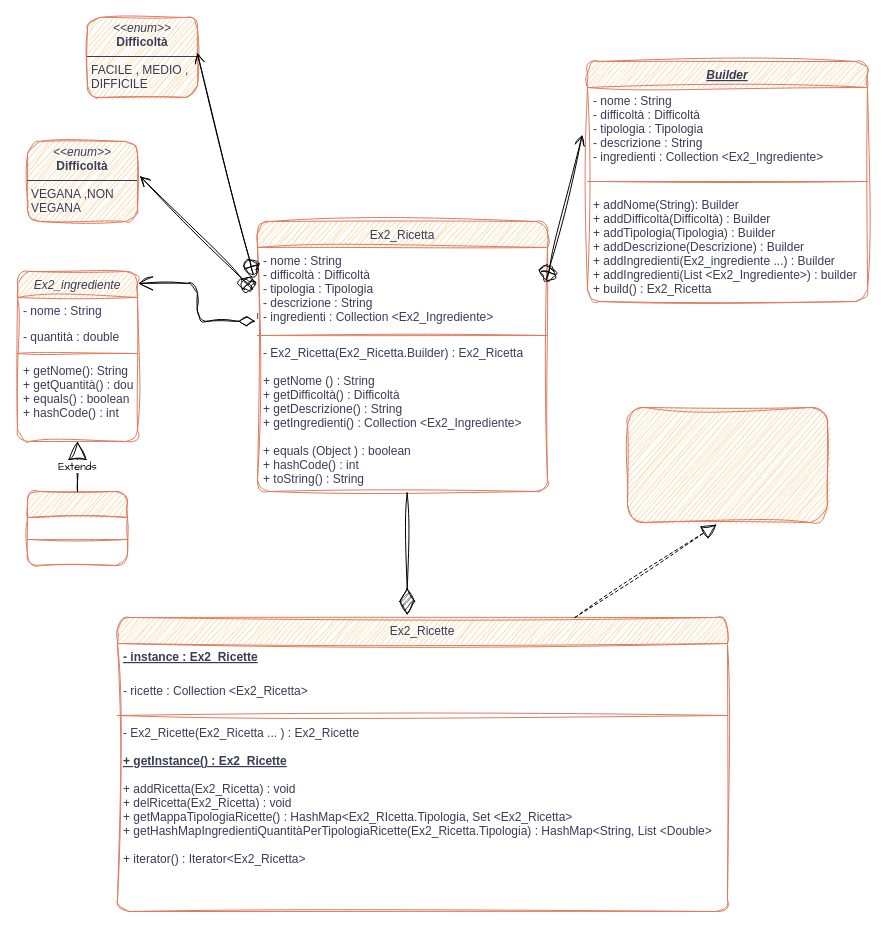
Image size: 885x929. Some labels were removed from this diagram. Each missing label, with the centre of its shape:
"<<interface>> iterable + iterator()" belongs at pixel 727 464.
"Ex2_Spicy" belongs at pixel 77 528.
